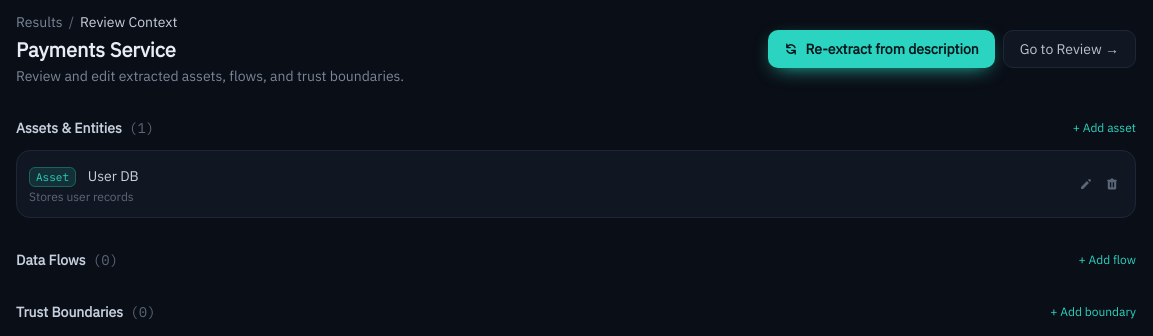
ReviewContext — assets CRUD › deletes an asset
The image size is (1153, 336).
Expected: the text "User DB" is shown, [88,167,139,185]
Click the button named "Delete asset User DB" at (1112, 184), box [1101,173,1123,195]
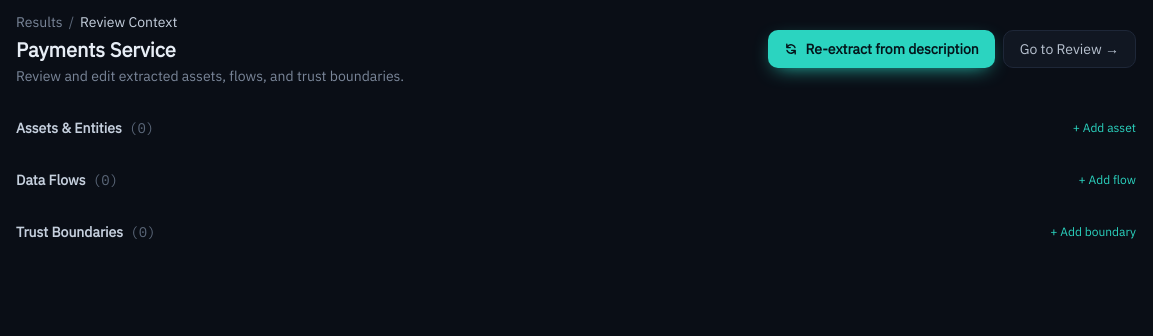
Expected: the text "User DB" is gone
